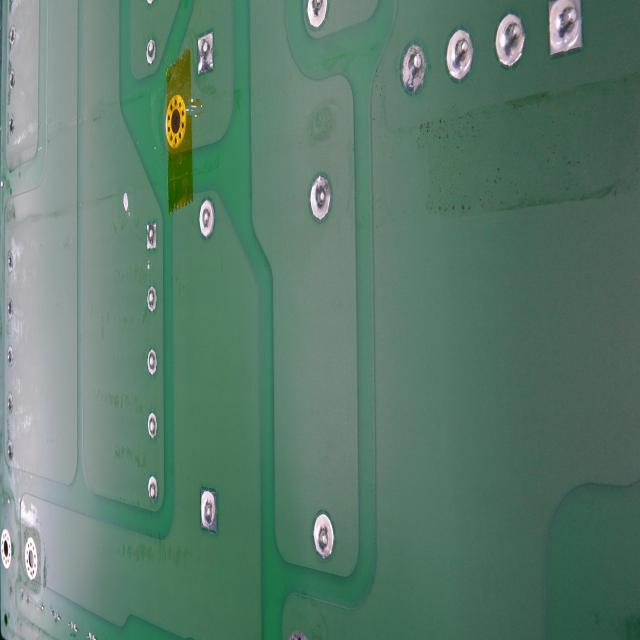spillover: (119, 187, 133, 219), (187, 100, 201, 114)
